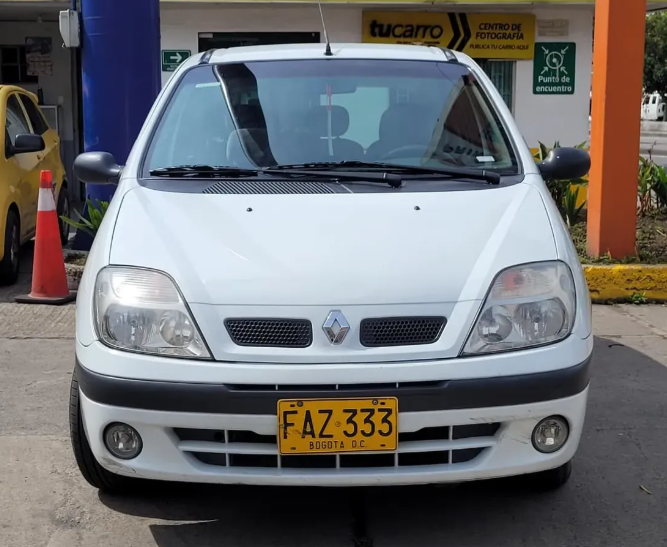placa: (276, 401, 397, 450)
